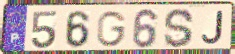5: (30, 10, 59, 50)
6: (131, 7, 160, 50), (64, 9, 92, 49)
G: (96, 10, 128, 48)
J: (200, 10, 224, 46)
S: (163, 7, 196, 49)
